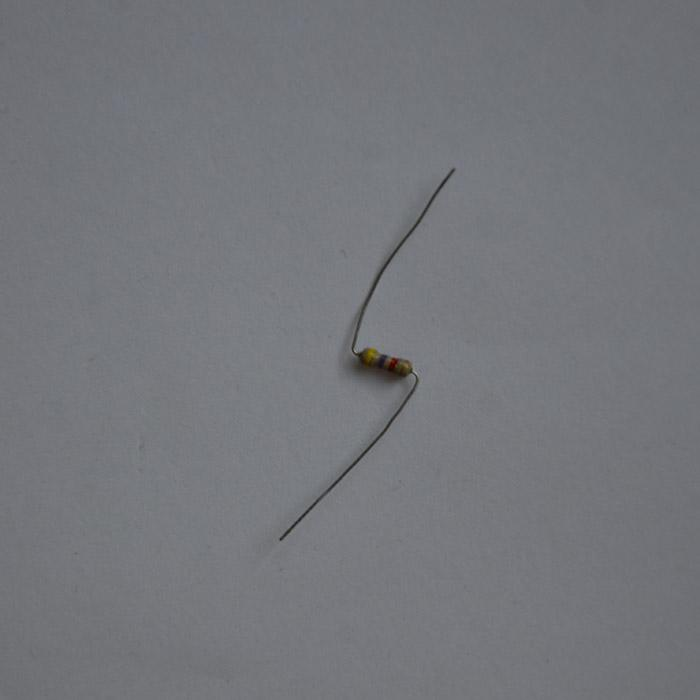resistor: (356, 346, 412, 377)
